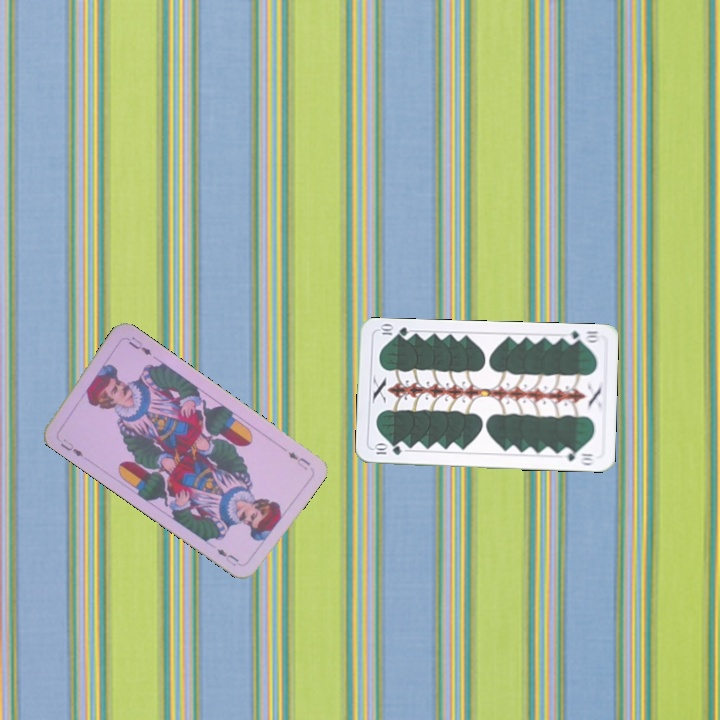EU: (56, 434, 85, 459), (284, 448, 313, 472)
G10: (562, 327, 602, 346), (370, 442, 404, 457)
